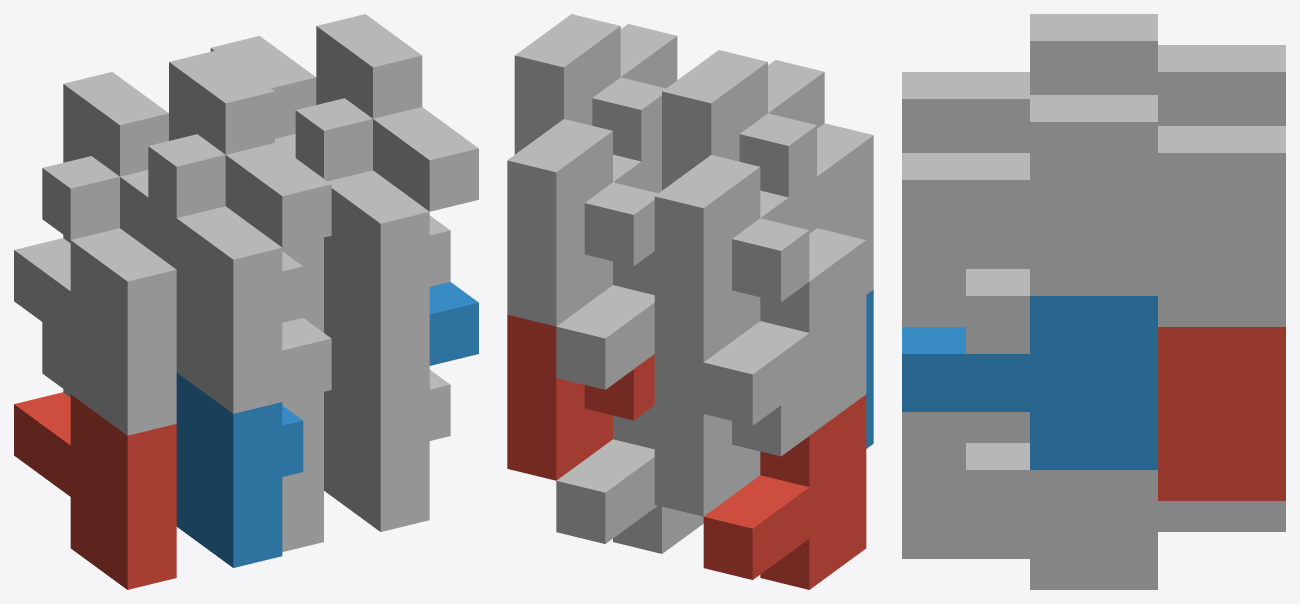
File: tiling.obj
3 renders of one model, left to right at view 1: azimuth 30°, elevation 25°; view 2: azimuth 150°, elevation 25°; view 3: azimuth 270°, elevation 25°, orthographic. The views are drawn at different scales.
Parts seen in each view (by area): view 1: copy_1_domain_3, copy_2_domain_4, copy_2_domain_8, copy_1_domain_1, copy_1_domain_4, copy_1_domain_8, copy_1_domain_2, copy_1_domain_6, copy_2_domain_3, copy_1_domain_5, copy_2_domain_7, copy_2_domain_6 (+3 smaller); view 2: copy_2_domain_3, copy_2_domain_7, copy_1_domain_3, copy_1_domain_1, copy_2_domain_4, copy_2_domain_8, copy_2_domain_1, copy_2_domain_5, copy_1_domain_5, copy_1_domain_7, copy_1_domain_4, copy_1_domain_2; view 3: copy_2_domain_8, copy_2_domain_6, copy_2_domain_7, copy_1_domain_6, copy_2_domain_5, copy_2_domain_4, copy_1_domain_5, copy_1_domain_8, copy_2_domain_3.
Part boxes in pixels (x1,y1,x2,y2): copy_1_domain_3: (14, 228, 176, 435); copy_2_domain_4: (148, 50, 331, 247); copy_2_domain_8: (295, 14, 478, 211); copy_1_domain_1: (14, 392, 176, 589); copy_1_domain_4: (176, 206, 303, 413); copy_1_domain_8: (324, 170, 450, 377); copy_1_domain_2: (176, 373, 303, 567); copy_1_domain_6: (324, 342, 450, 531); copy_2_domain_3: (42, 72, 176, 269); copy_1_domain_5: (282, 392, 323, 551); copy_2_domain_7: (210, 36, 316, 157); copy_2_domain_6: (429, 282, 478, 365); copy_2_domain_3: (654, 155, 816, 362); copy_2_domain_7: (507, 119, 661, 326); copy_1_domain_3: (703, 228, 866, 435); copy_1_domain_1: (703, 394, 866, 589); copy_2_domain_4: (662, 50, 824, 197); copy_2_domain_8: (514, 14, 677, 161); copy_2_domain_1: (654, 350, 809, 516); copy_2_domain_5: (507, 314, 654, 480); copy_1_domain_5: (556, 405, 703, 553); copy_1_domain_7: (556, 251, 654, 389); copy_1_domain_4: (817, 123, 873, 294); copy_1_domain_2: (866, 290, 873, 448); copy_2_domain_8: (902, 95, 1157, 295); copy_2_domain_6: (902, 296, 1157, 469); copy_2_domain_7: (1158, 126, 1285, 326); copy_1_domain_6: (902, 412, 1157, 558); copy_2_domain_5: (1158, 327, 1285, 500); copy_2_domain_4: (902, 14, 1157, 152); copy_1_domain_5: (1030, 501, 1285, 589); copy_1_domain_8: (902, 238, 1029, 353); copy_2_domain_3: (1158, 45, 1285, 125).
Size of the model in its own units: 6 by 9 by 6.
